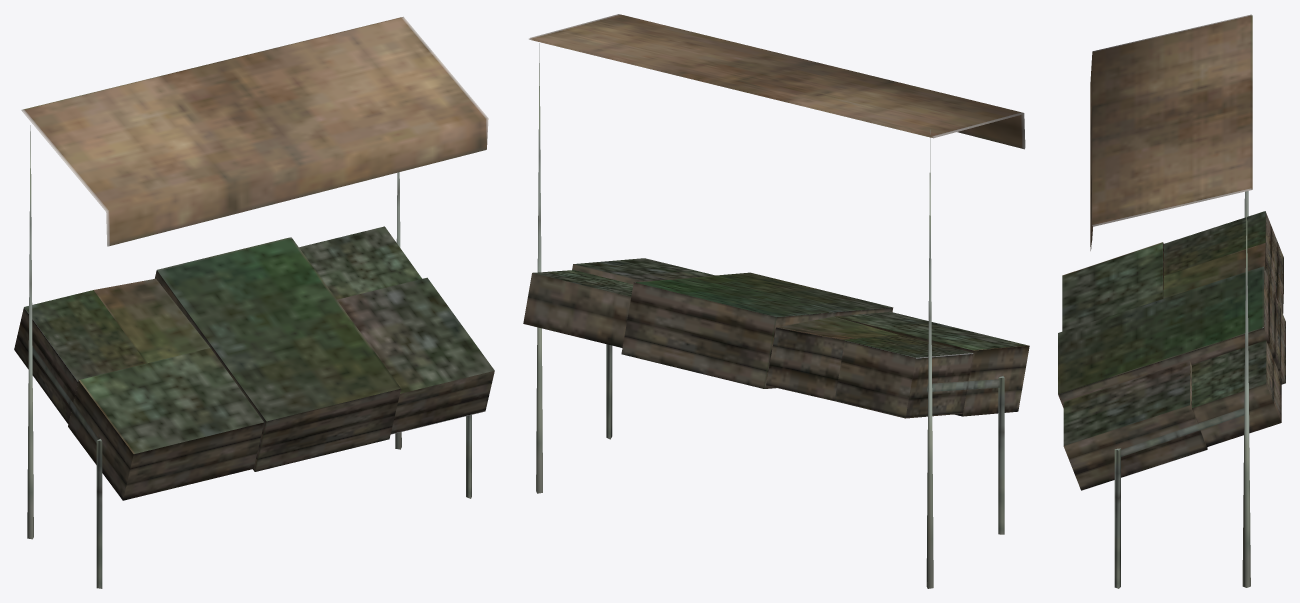
The model's file is frn_tato_fruit_stand_sml_s01_l2.fbx.
The picture shows the model from 3 angles, left to right: view 1: azimuth 30°, elevation 25°; view 2: azimuth 150°, elevation 25°; view 3: azimuth 270°, elevation 25°; orthographic projection. The views are drawn at different scales.
Visible parts, largest first — view 1: mesh_node; view 2: mesh_node; view 3: mesh_node.
Boxes of the visible parts, <box> form: mesh_node: <box>14,16,494,588</box>; mesh_node: <box>523,14,1029,588</box>; mesh_node: <box>1058,14,1285,588</box>.
Bounding box in the file's own units: 2.38 × 2.58 × 1.31.
